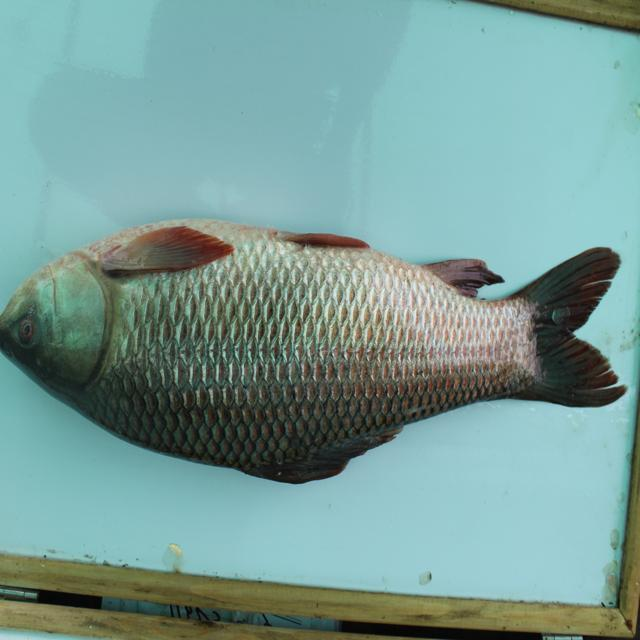Rohu: (3, 212, 637, 478)
